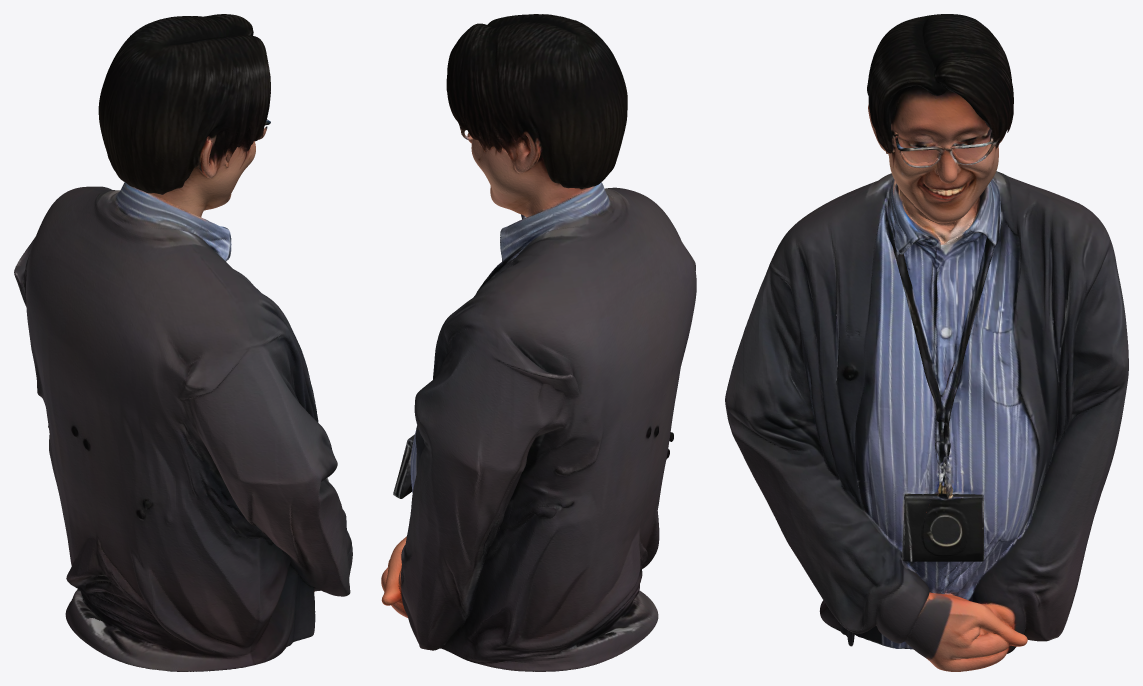
3 renders of one model, left to right at view 1: azimuth 30°, elevation 25°; view 2: azimuth 150°, elevation 25°; view 3: azimuth 270°, elevation 25°, orthographic. The views are drawn at different scales.
Parts seen in each view (by area): view 1: tripo_node_3cee9b1e-b6e4-465e-8587-1609e473350d; view 2: tripo_node_3cee9b1e-b6e4-465e-8587-1609e473350d; view 3: tripo_node_3cee9b1e-b6e4-465e-8587-1609e473350d.
Boxes of the visible parts, x1,y1,x2,y2 form: tripo_node_3cee9b1e-b6e4-465e-8587-1609e473350d: (14,14,352,671); tripo_node_3cee9b1e-b6e4-465e-8587-1609e473350d: (381,14,696,671); tripo_node_3cee9b1e-b6e4-465e-8587-1609e473350d: (725,14,1128,671).
Size of the model in its own units: 0.4474 by 1 by 0.6266.
Materials: 1 (1 with a texture image).
